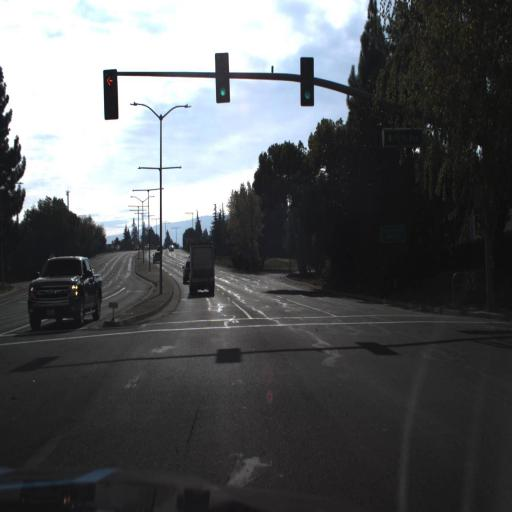car: (25, 254, 102, 330), (179, 258, 190, 288), (182, 260, 192, 286), (152, 252, 162, 265), (156, 244, 163, 254)
trafficLight-Green: (215, 55, 230, 100), (301, 60, 314, 105)
trafficLight-RedLeft: (103, 65, 118, 119)
truck: (188, 242, 216, 298)
